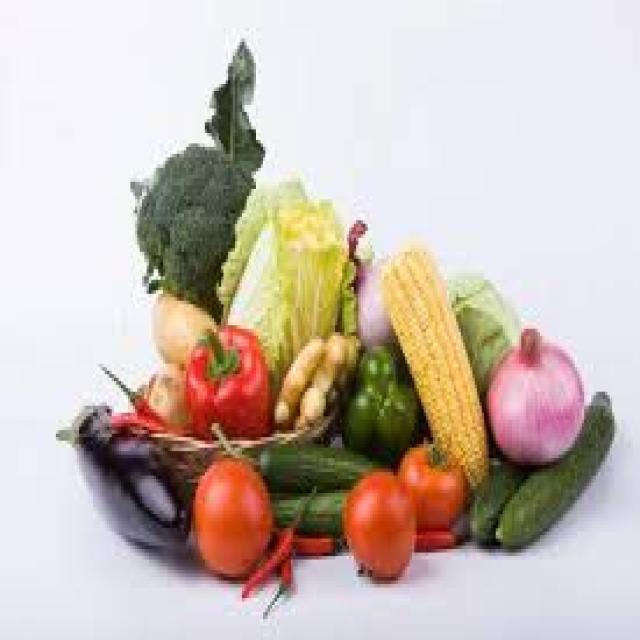food_waste: (72, 45, 607, 584)
